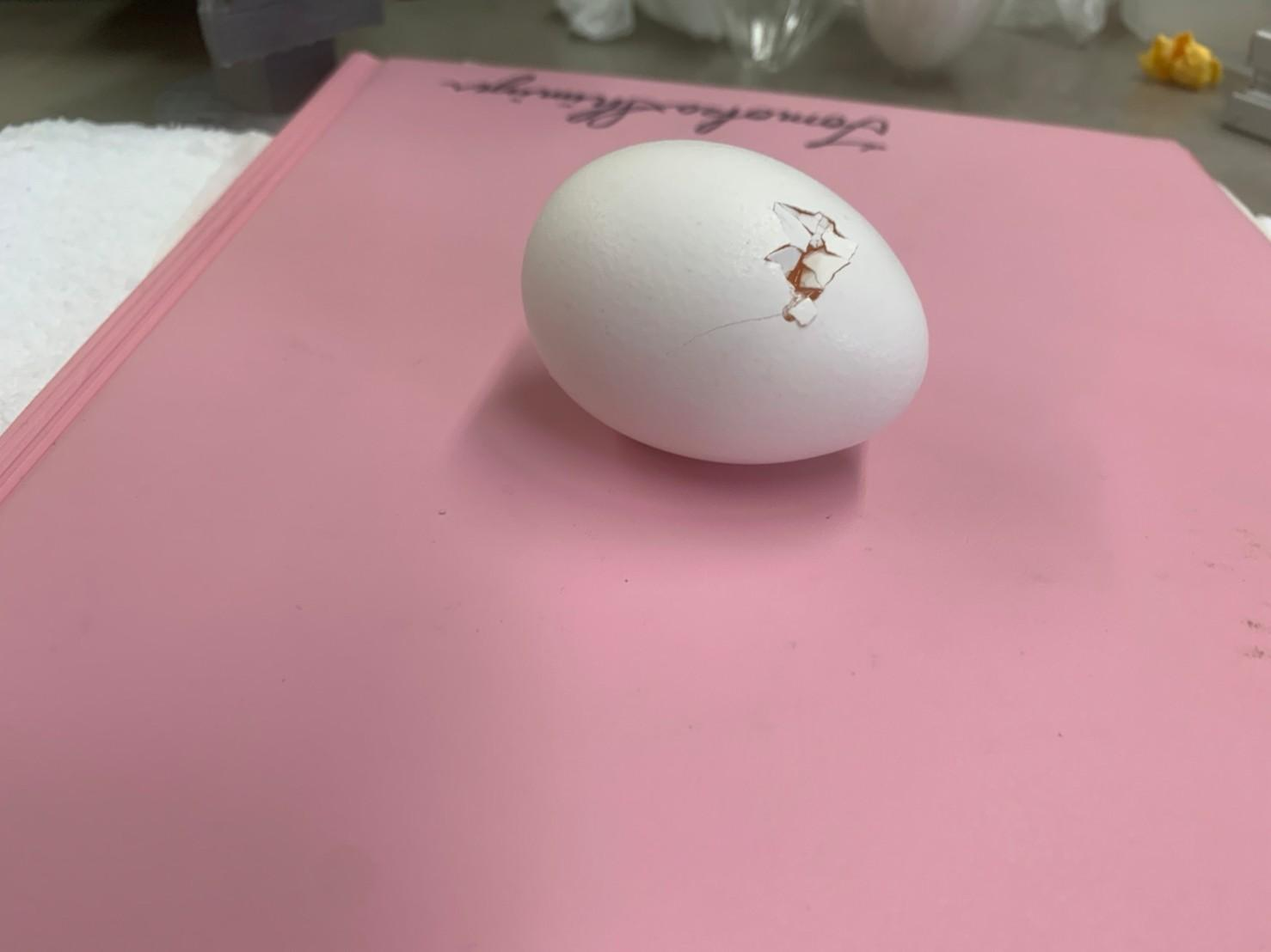egg: (516, 136, 936, 468)
